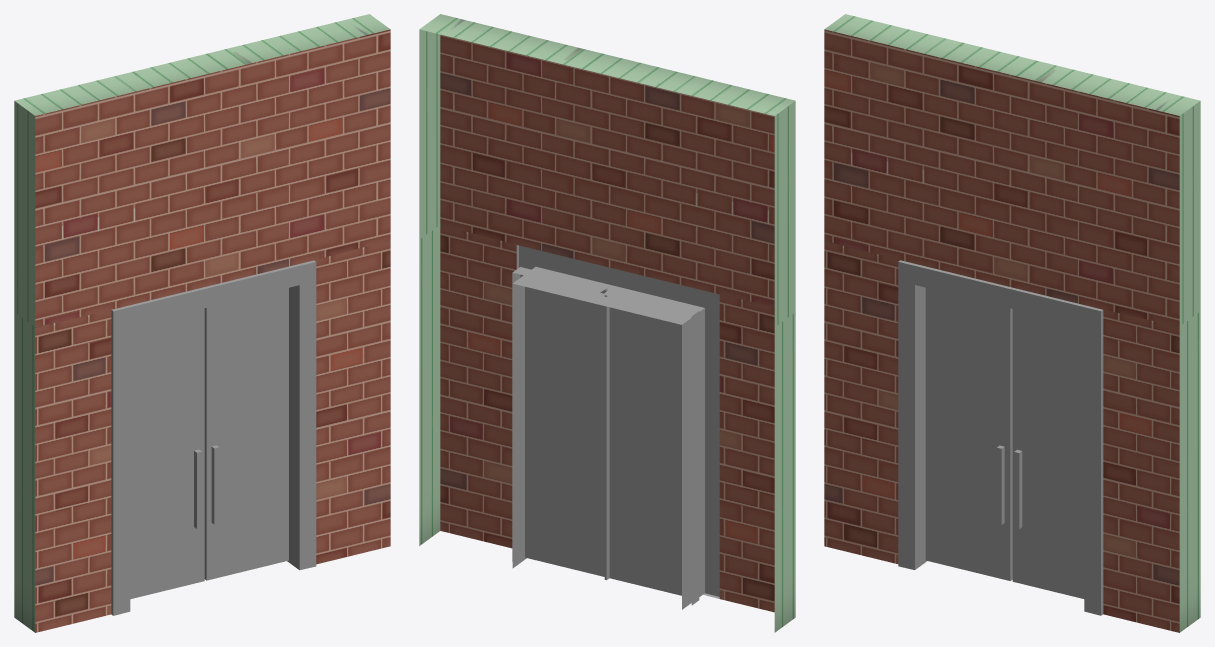
The model's file is policeDoor.fbx.
The picture shows the model from 3 angles, left to right: view 1: azimuth 30°, elevation 25°; view 2: azimuth 150°, elevation 25°; view 3: azimuth 330°, elevation 25°; orthographic projection.
Parts seen in each view (by area): view 1: policeDoor; view 2: policeDoor; view 3: policeDoor.
Part boxes in pixels (bbox=[...]): policeDoor: bbox=[14, 14, 390, 632]; policeDoor: bbox=[419, 14, 795, 632]; policeDoor: bbox=[824, 14, 1200, 632].
Size of the model in its own units: 328 by 456 by 36.98.
2 materials, 1 textured.
